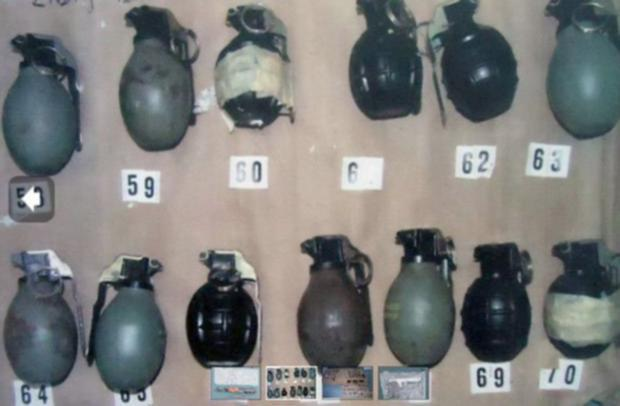Grenade: (117, 4, 198, 155), (3, 30, 85, 179), (1, 250, 86, 387), (427, 0, 519, 125), (85, 253, 167, 392), (543, 0, 619, 141), (382, 229, 458, 369), (213, 5, 295, 131), (296, 235, 372, 367), (346, 0, 425, 122), (542, 239, 619, 361), (187, 248, 263, 370), (460, 245, 534, 363)
